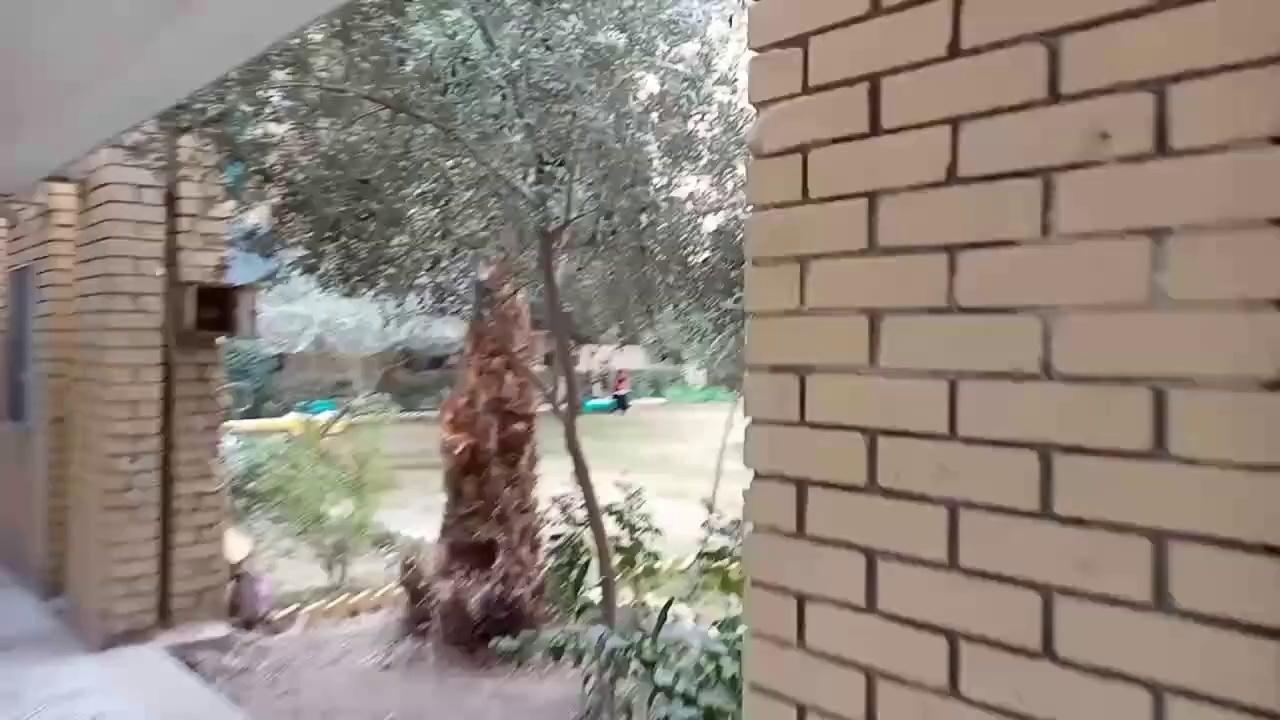person: (609, 367, 632, 415)
tree: (167, 0, 748, 386), (399, 249, 552, 668)
